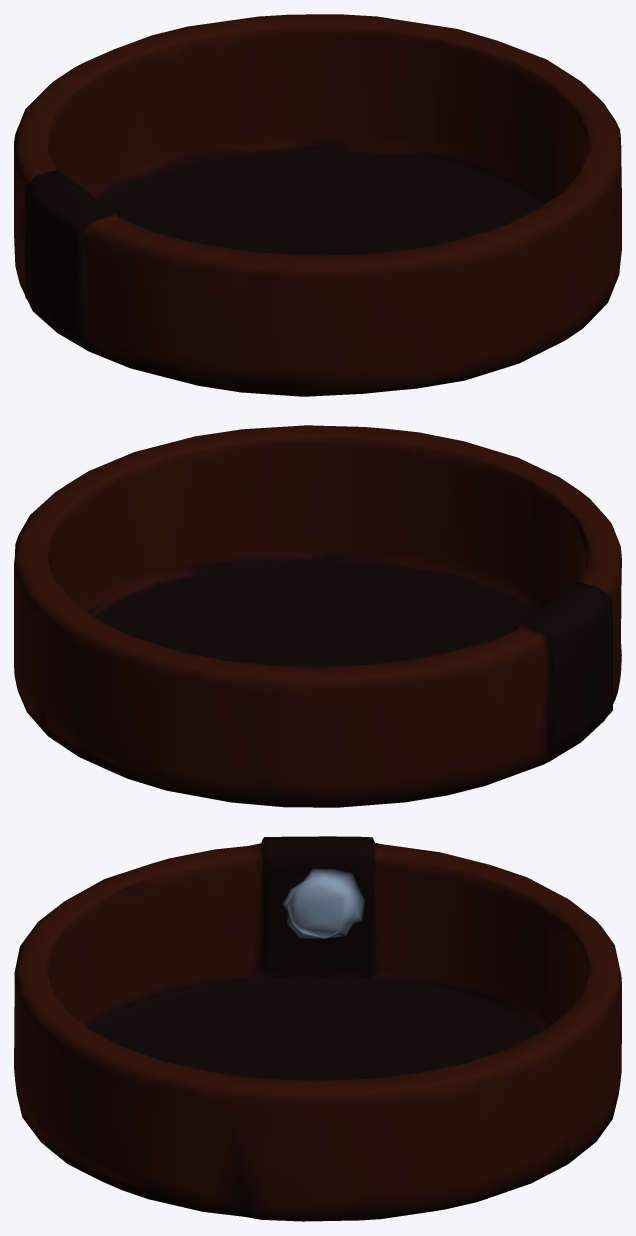
Rendered from gen3d-leather-belt-lod0.glb.
The picture shows the model from 3 angles, top to bottom: view 1: azimuth 30°, elevation 25°; view 2: azimuth 150°, elevation 25°; view 3: azimuth 270°, elevation 25°; orthographic projection.
Visible parts, largest first — view 1: part_0; view 2: part_0; view 3: part_0.
Boxes of the visible parts, x1,y1,x2,y2 form: part_0: (14, 14, 621, 396); part_0: (14, 425, 621, 807); part_0: (14, 836, 621, 1221).
Size of the model in its own units: 4.03 by 0.9998 by 3.98.
